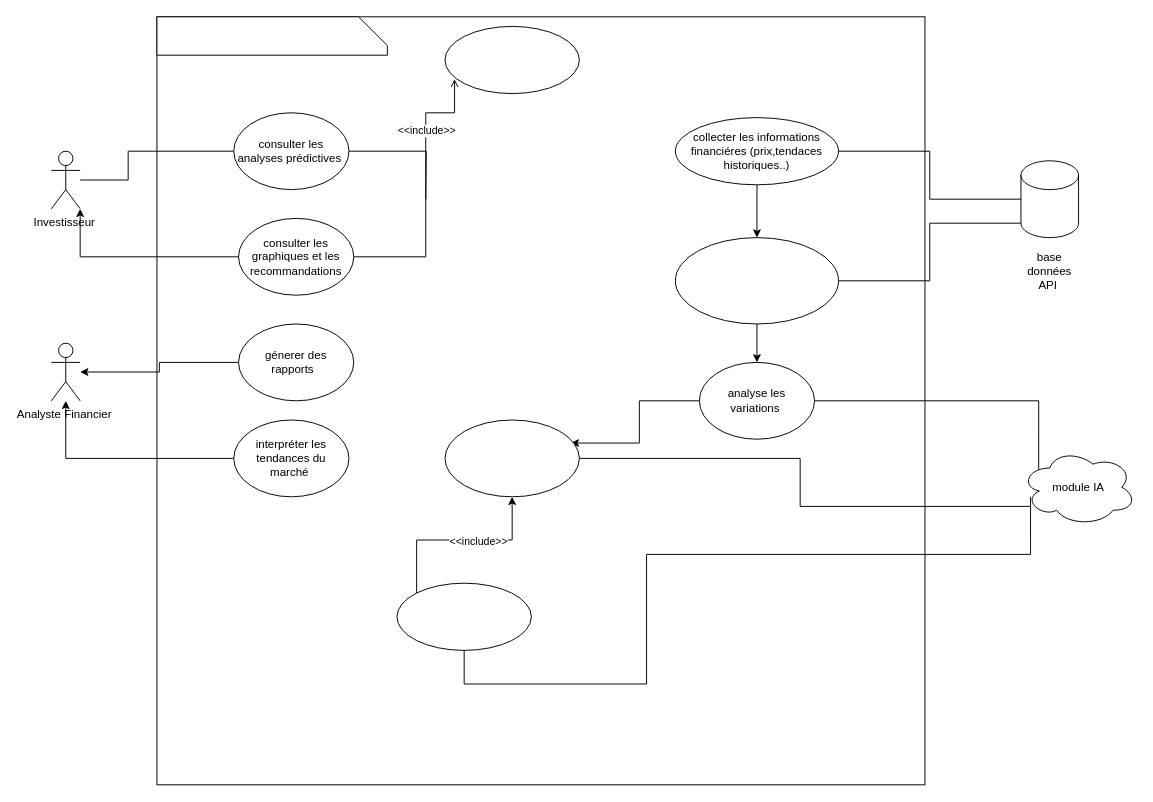
Some shapes in this 1153 by 802 pixel diagram are drawn without their labels. Here are the shapes that lost their labels. From the top down, the centre of each, then its label:
At [271,35]: "Platforme Financiére d'analyse".
At [511,59]: "authentifier".
At [756,280]: "stocker , organiser et metrre a jour les données".
At [511,458]: "Prédire les tendances".
At [463,616]: "Fournir des recommandations".
